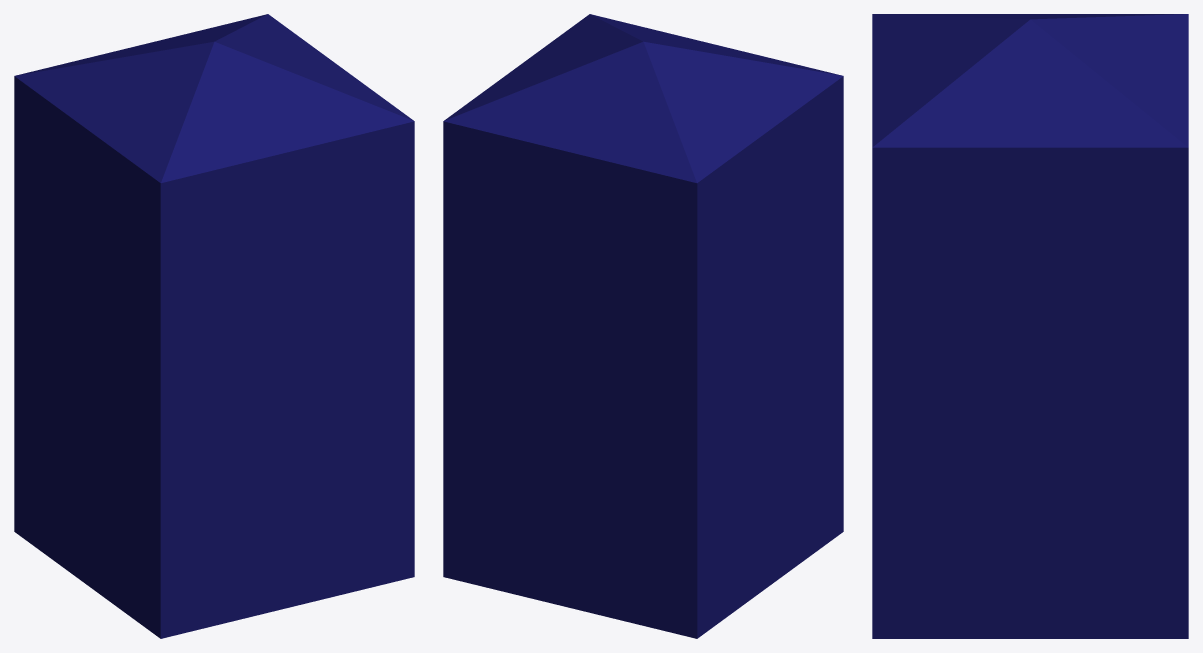
File: resub_basic_tardis.dae
3 views of the same model, side by side, from view 1: azimuth 30°, elevation 25°; view 2: azimuth 150°, elevation 25°; view 3: azimuth 270°, elevation 25° (orthographic). The views are drawn at different scales.
Parts seen in each view (by area): view 1: SketchUp; view 2: SketchUp; view 3: SketchUp.
Part boxes in pixels (box(x1,y1,x2,y2)): SketchUp: box(14, 14, 414, 638); SketchUp: box(443, 14, 843, 638); SketchUp: box(872, 14, 1188, 638).
Size of the model in its own units: 140 by 140 by 270.
